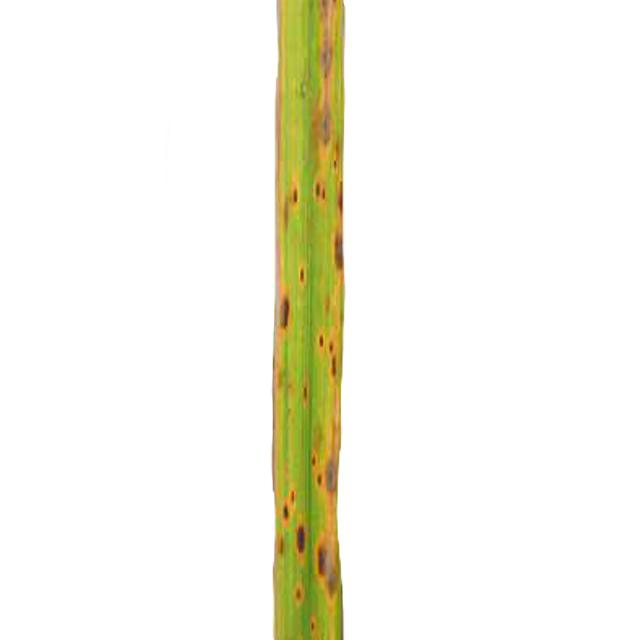Brown spot: (272, 2, 346, 640)
